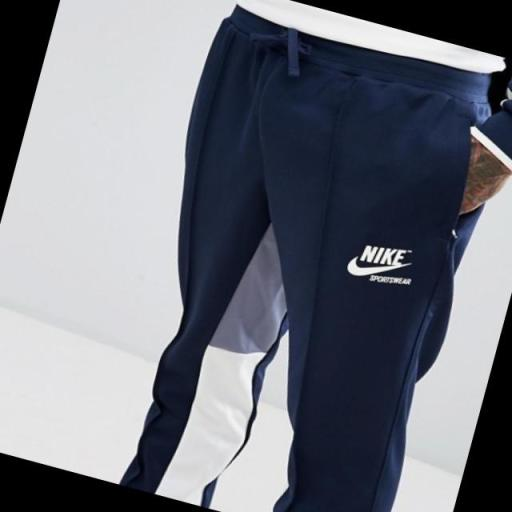Nike: (344, 252, 405, 288), (358, 239, 408, 272)
